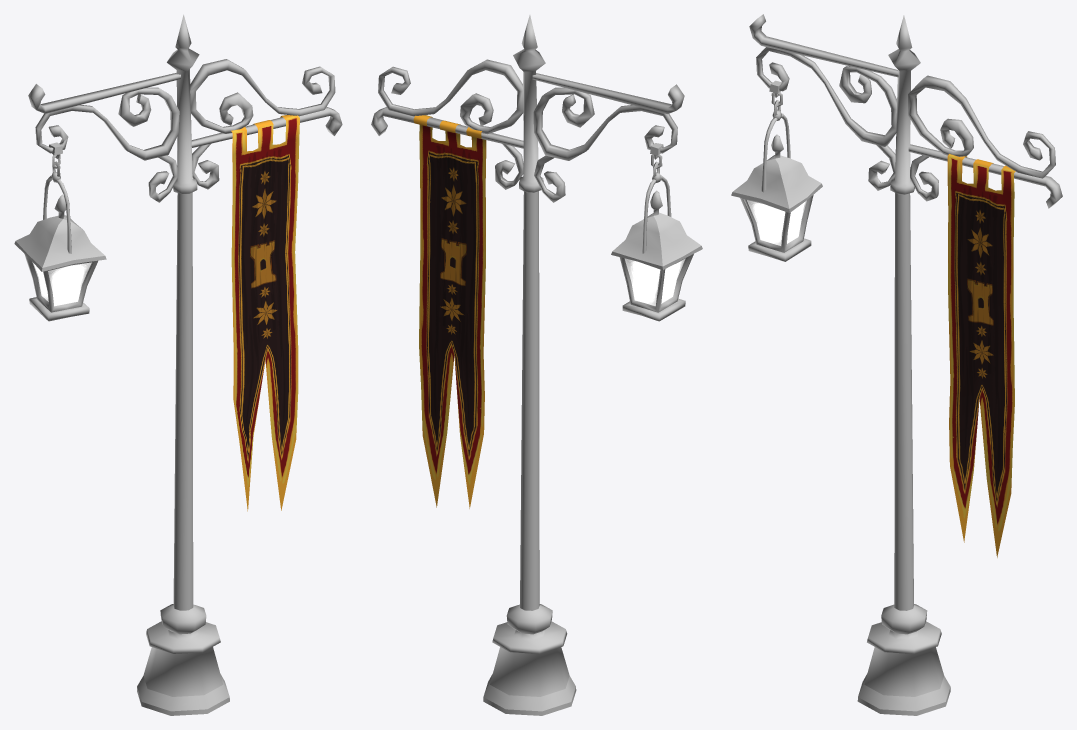
The model's file is SM_PROP_lantern_flag_city.fbx.
3 renders of one model, left to right at view 1: azimuth 30°, elevation 25°; view 2: azimuth 150°, elevation 25°; view 3: azimuth 330°, elevation 25°, orthographic.
Parts seen in each view (by area): view 1: SM_PROP_lantern_flag_city; view 2: SM_PROP_lantern_flag_city; view 3: SM_PROP_lantern_flag_city.
Boxes of the visible parts, box(x1,y1,x2,y2) form: SM_PROP_lantern_flag_city: box(14, 14, 342, 715); SM_PROP_lantern_flag_city: box(371, 15, 702, 715); SM_PROP_lantern_flag_city: box(731, 14, 1062, 715).
Bounding box in the file's own units: 187 × 389 × 49.69.
